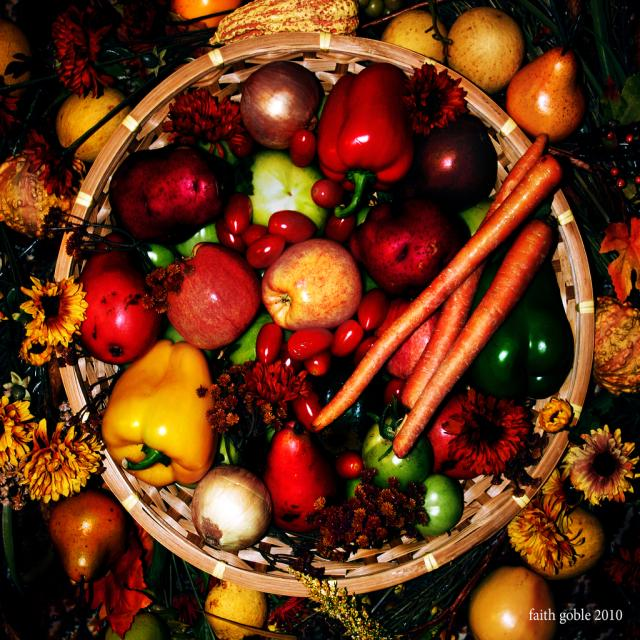Healty Apple: (165, 245, 258, 347), (260, 241, 361, 331)
